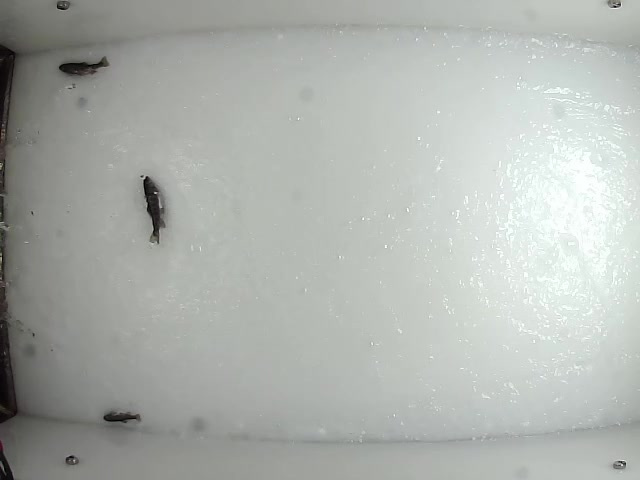fish: (141, 173, 168, 246), (57, 56, 113, 78), (102, 411, 142, 424)
